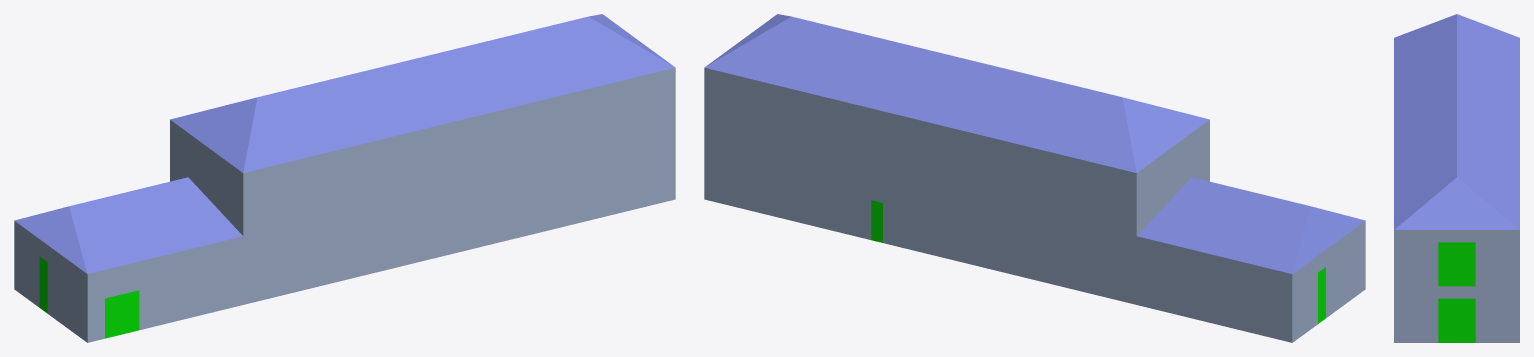
File: Chlorination_Room.glb
The picture shows the model from 3 angles, left to right: view 1: azimuth 30°, elevation 25°; view 2: azimuth 150°, elevation 25°; view 3: azimuth 270°, elevation 25°; orthographic projection. The views are drawn at different scales.
Visible parts, largest first — view 1: Floor1, Roof; view 2: Floor1, Roof; view 3: Roof, Floor1.
Boxes of the visible parts, left/top/right/bottom form: Floor1: left=14, top=67, right=675, bottom=342; Roof: left=14, top=14, right=675, bottom=276; Floor1: left=704, top=67, right=1365, bottom=342; Roof: left=704, top=14, right=1365, bottom=276; Roof: left=1394, top=14, right=1519, bottom=229; Floor1: left=1394, top=230, right=1519, bottom=342.
Size of the model in its own units: 42.97 by 11.76 by 9.28.
